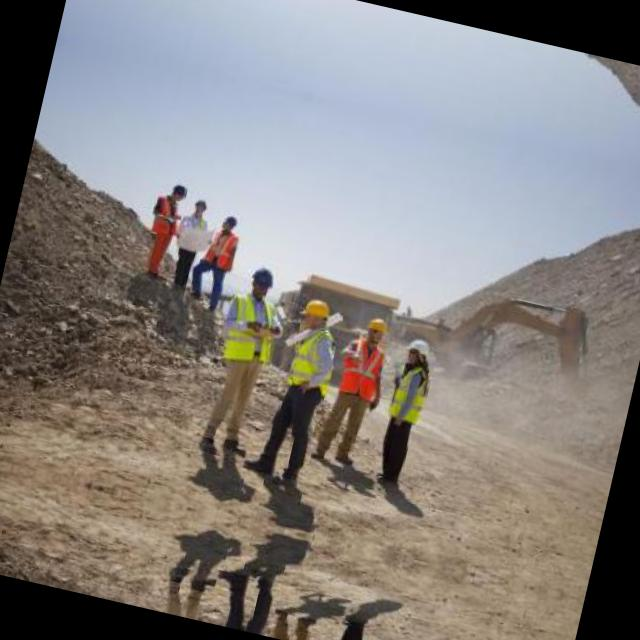helmet: (296, 291, 338, 335), (244, 260, 284, 304), (359, 310, 394, 347), (401, 333, 436, 368), (218, 212, 242, 238), (166, 180, 189, 204)
